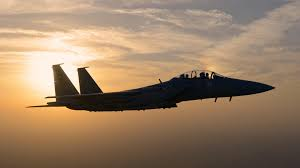fighter: (23, 63, 278, 112)
